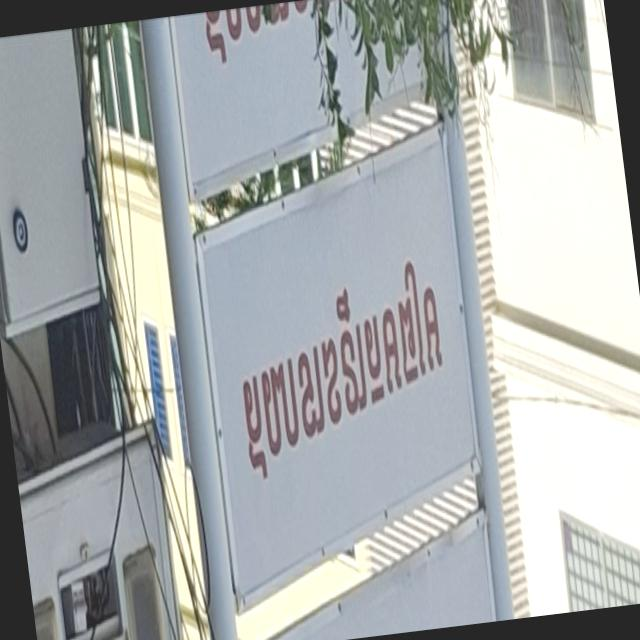Yolov11_80vkh: (217, 186, 457, 537)
